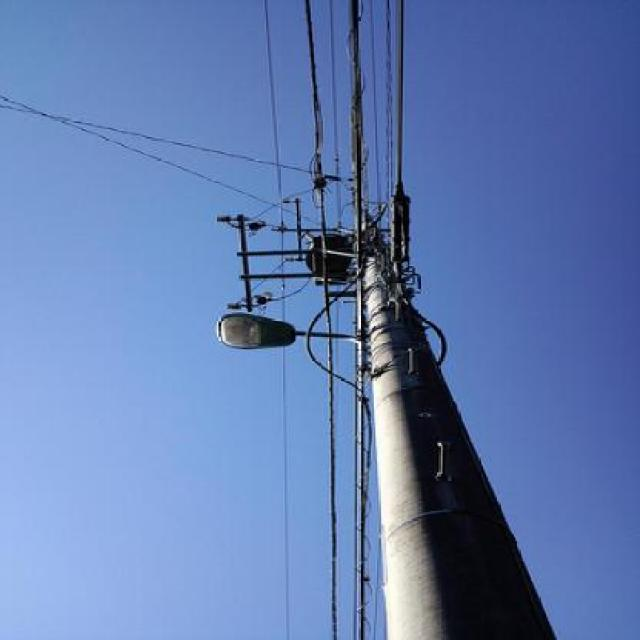pole: (239, 154, 546, 640)
